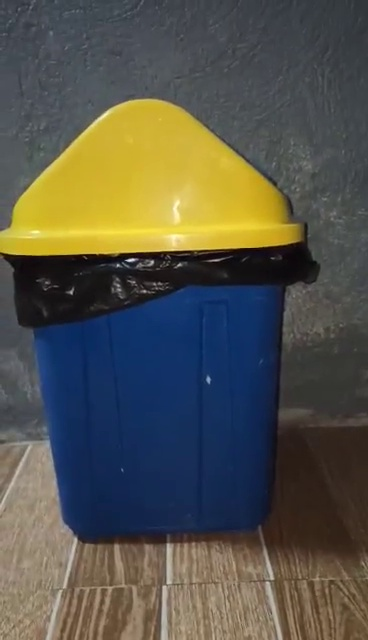garbagebin: (1, 97, 319, 543)
